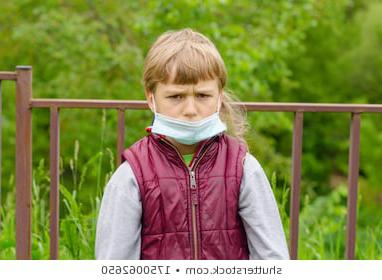mask_weared_incorrect: (158, 86, 220, 142)
